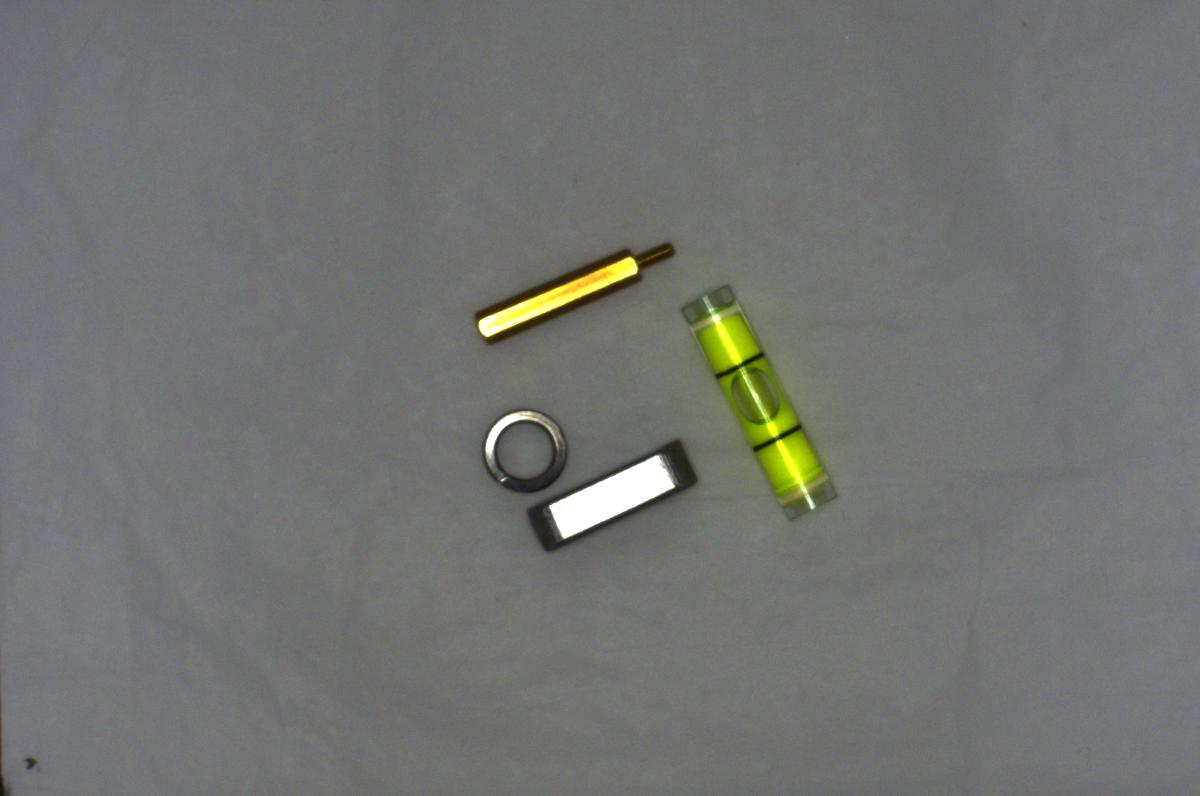Hexagon pillar: (479, 233, 678, 358)
Horizontal bubble: (673, 276, 837, 523)
Keybar: (527, 440, 695, 550)
Spring washer: (473, 399, 571, 494)
